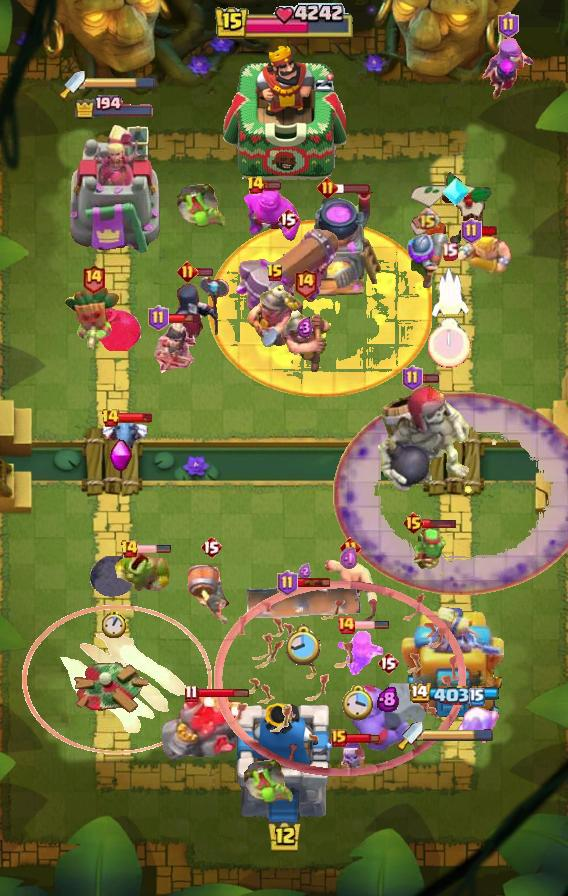archer-evolution: (333, 628, 383, 678)
bar: (197, 688, 250, 699), (117, 412, 153, 424), (335, 182, 371, 194), (345, 732, 380, 744), (422, 517, 457, 529), (167, 312, 202, 324), (296, 577, 331, 588), (354, 620, 390, 630), (136, 544, 172, 554), (480, 225, 499, 237), (421, 373, 440, 384), (263, 180, 282, 191), (195, 267, 214, 277)
bar-level: (293, 267, 318, 298), (81, 263, 106, 294), (402, 511, 425, 535), (277, 570, 298, 596), (402, 365, 423, 391), (148, 305, 169, 331), (461, 218, 482, 244), (498, 12, 519, 38), (416, 208, 439, 231), (377, 651, 399, 675), (200, 535, 222, 559), (277, 207, 299, 231), (340, 537, 361, 558), (177, 261, 198, 282), (317, 177, 338, 198), (336, 615, 356, 635), (120, 539, 139, 559), (101, 408, 120, 428), (246, 175, 265, 195), (266, 263, 284, 283), (441, 242, 458, 261), (331, 729, 347, 747), (469, 688, 485, 706), (184, 684, 199, 703)
barbarian: (323, 552, 377, 602), (455, 233, 513, 277)
bomb: (89, 537, 140, 599), (96, 306, 142, 351)
clock: (428, 318, 471, 368), (286, 624, 322, 667), (342, 685, 374, 722), (102, 611, 126, 638)
dagger-duchess-tower: (399, 607, 507, 731), (67, 122, 161, 256)
dagger-duchess-tower-bar: (423, 729, 493, 743), (85, 77, 155, 91)
dart-goblin: (63, 285, 123, 353)
elixir: (377, 686, 399, 712), (340, 546, 360, 571), (297, 317, 313, 339), (298, 563, 311, 580)
elixir-golem-mid: (239, 189, 303, 243)
evolution-symbol: (108, 439, 133, 473)
goblin-ball: (243, 758, 297, 806), (176, 182, 230, 230)
goblin-brawler: (115, 549, 175, 603)
ice-spirit: (428, 266, 470, 320)
ice-spirit-evolution: (452, 705, 502, 743)
ice-spirit-evolution-symbol: (441, 177, 471, 207)
king-tower: (223, 44, 346, 181), (235, 703, 333, 826)
king-tower-bar: (213, 3, 355, 43)
miner: (244, 277, 306, 349), (278, 303, 332, 377)
minion: (100, 417, 148, 453)
mother-witch: (480, 37, 536, 103)
musketeer: (404, 231, 450, 291)
night-witch: (171, 274, 231, 348)
princess: (152, 322, 198, 380)
skeleton-evolution: (338, 742, 370, 782)
spear-goblin: (413, 527, 449, 569)
the-log: (243, 580, 365, 624)
tower-bar: (407, 683, 499, 706), (74, 95, 155, 120)
wall-breaker: (186, 562, 236, 626)
